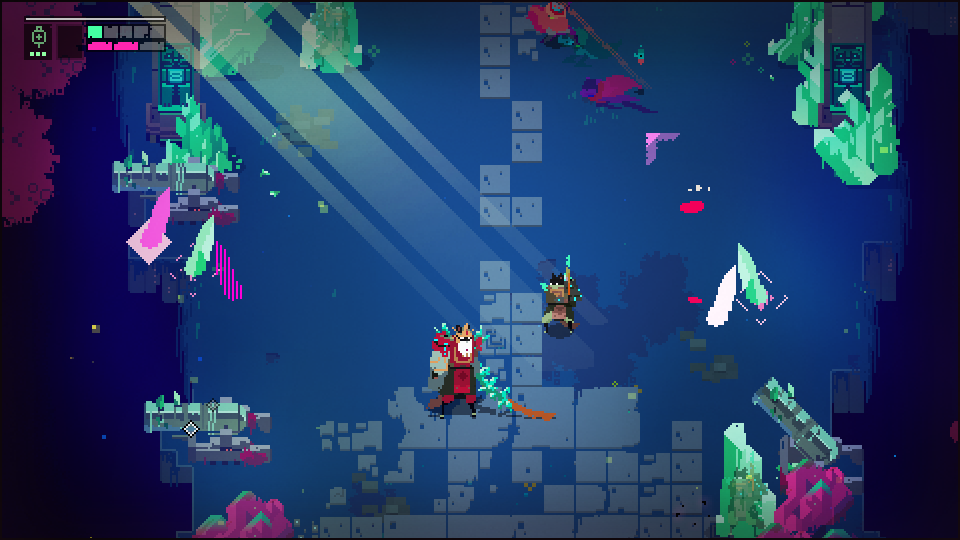hanged_crys: (735, 241, 768, 305), (183, 214, 213, 274), (141, 185, 168, 250)
hanged_man: (431, 324, 513, 423)
player: (525, 1, 571, 38)
